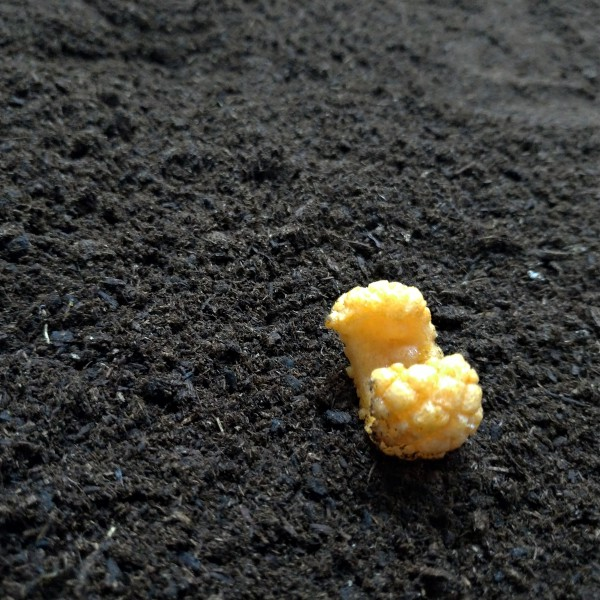eggs: (316, 273, 488, 464)
